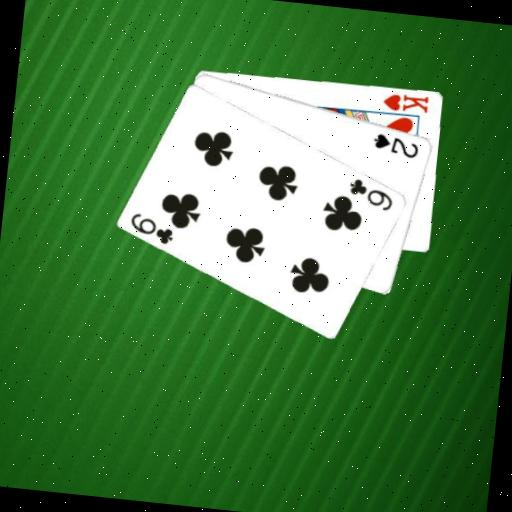2S: (369, 129, 422, 161)
6C: (345, 174, 397, 213), (126, 210, 178, 247)
KH: (380, 89, 432, 116)
